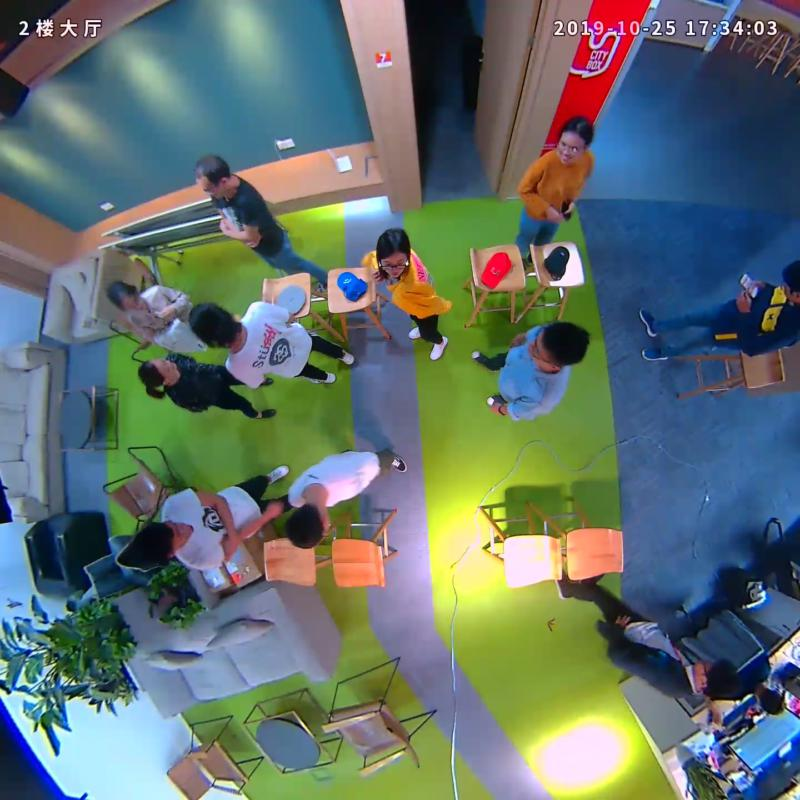head: (528, 321, 590, 370), (134, 519, 190, 562), (286, 502, 331, 550), (693, 658, 739, 701), (188, 301, 233, 344), (375, 228, 411, 280), (194, 153, 233, 201), (556, 117, 594, 166), (105, 279, 145, 313), (138, 357, 179, 387)
